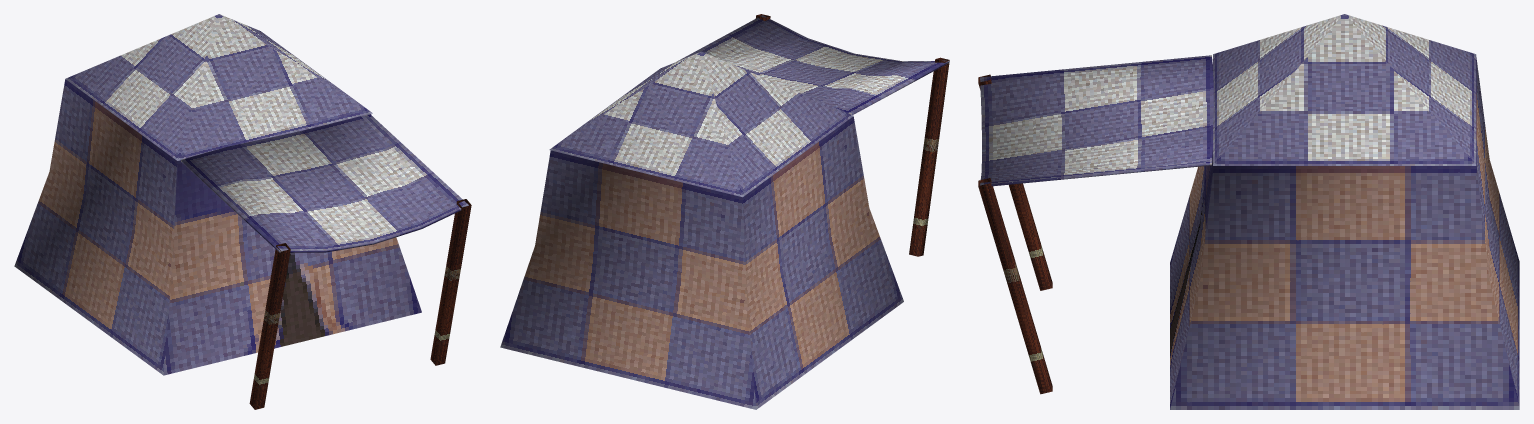
The model's file is TENT1_ACTORDEF.fbx.
The picture shows the model from 3 angles, left to right: view 1: azimuth 30°, elevation 25°; view 2: azimuth 150°, elevation 25°; view 3: azimuth 270°, elevation 25°; orthographic projection. The views are drawn at different scales.
Visible parts, largest first — view 1: U3DMesh; view 2: U3DMesh; view 3: U3DMesh.
Boxes of the visible parts, x1,y1,x2,y2 form: U3DMesh: (14,14,471,409); U3DMesh: (500,14,949,409); U3DMesh: (978,14,1519,409).
Size of the model in its own units: 17.5 by 17.97 by 27.11.
